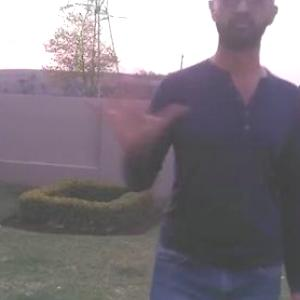follow_hand: (83, 54, 186, 149)
